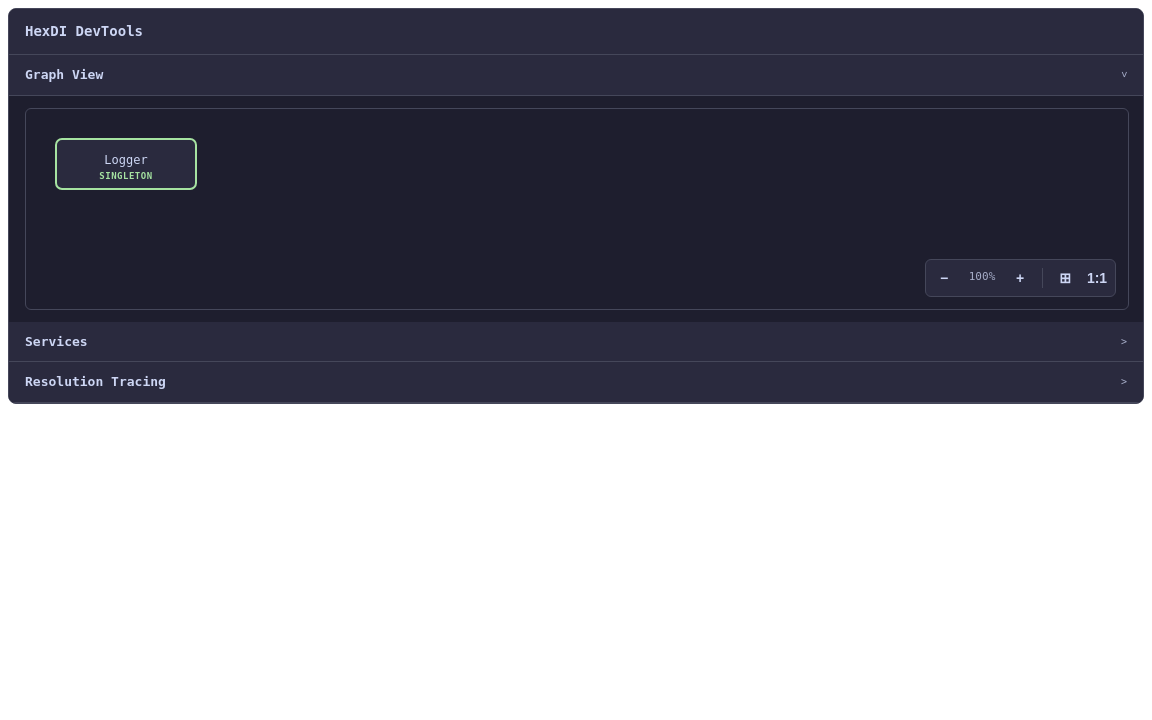
DevToolsPanel edge cases › renders graph with no dependencies
Check: the text "Logger" is shown, box x1=104 y1=152 x2=148 y2=166
Note: Expand services section
Click the button with test id "services-header": (56, 341) x1=9 y1=322 x2=1143 y2=362
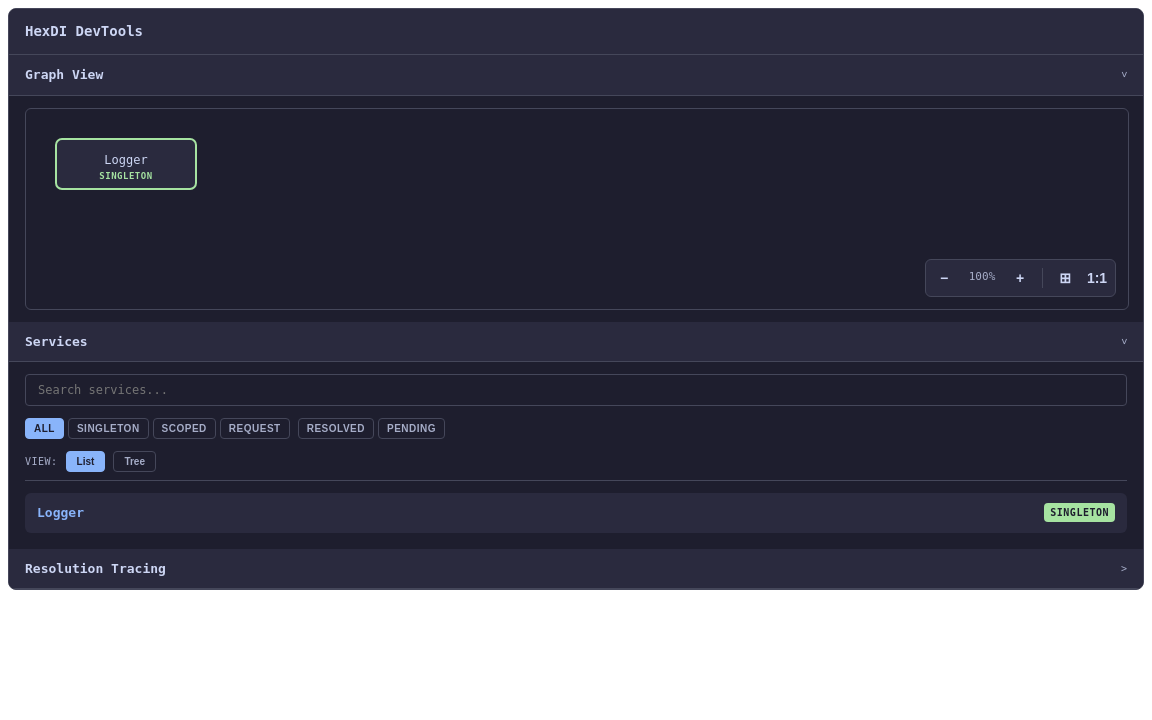
Check: the element with test id "enhanced-service-item-Logger" is shown, box x1=25 y1=493 x2=1127 y2=532
Note: Find and click the button inside the service item (the header)
Click the button "Logger singleton": (60, 512) x1=37 y1=503 x2=1115 y2=522
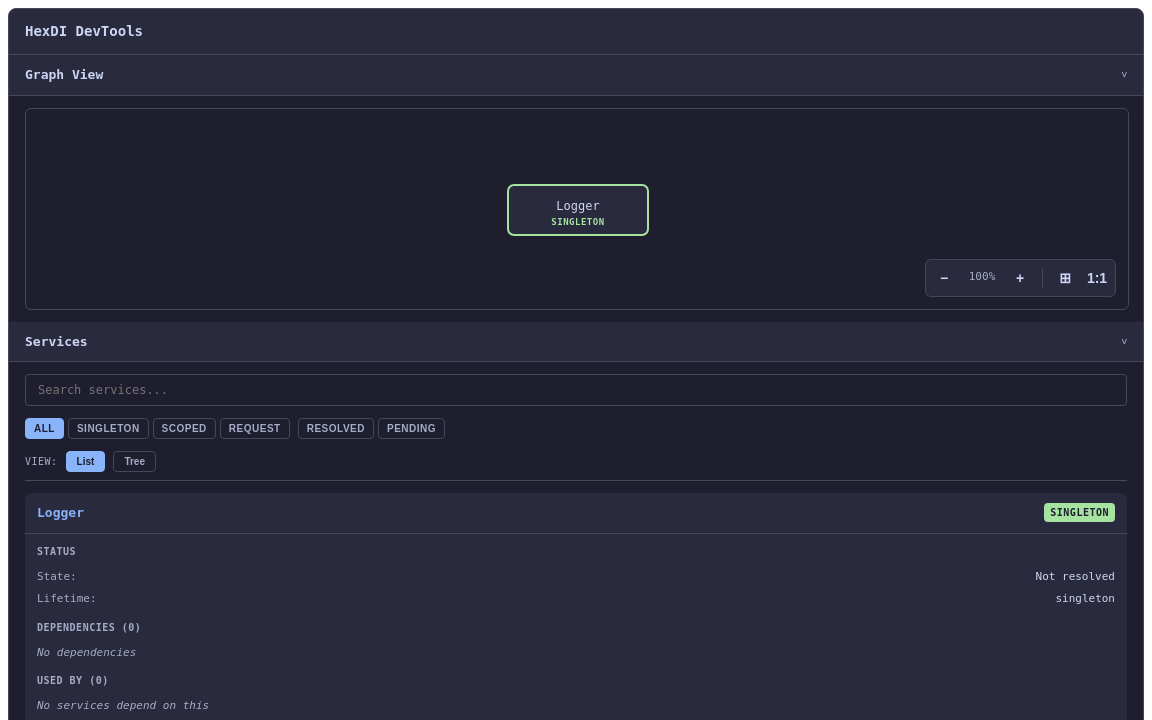
Check: the text "No dependencies" is shown, box x1=37 y1=646 x2=136 y2=658
